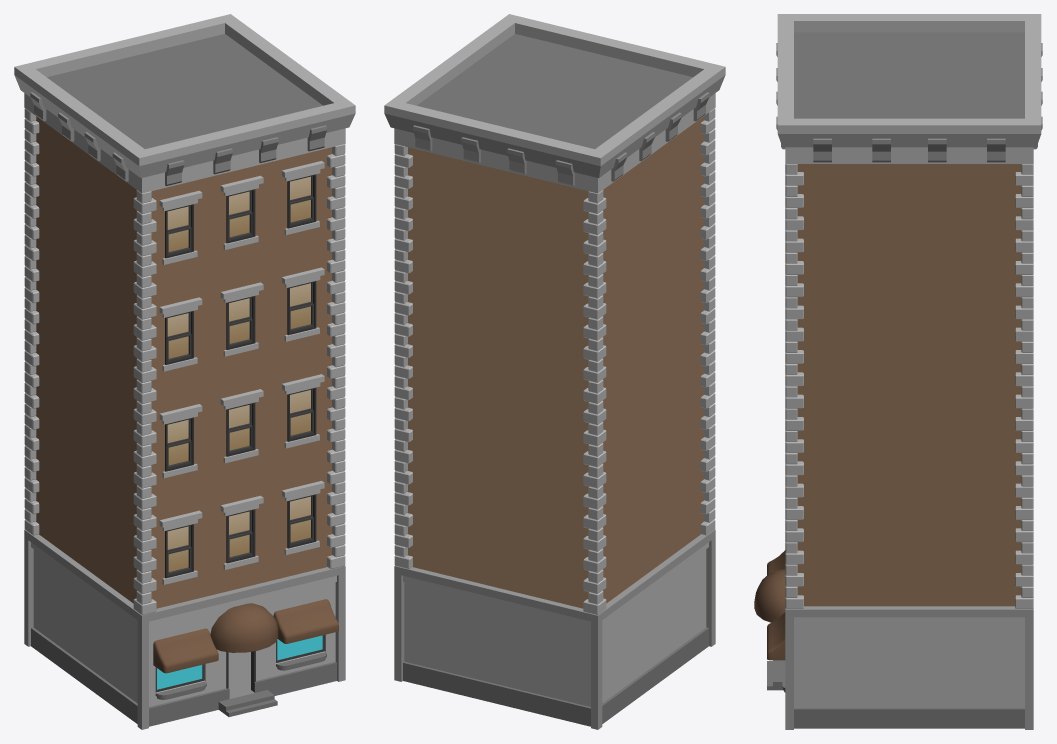
File: SM_Buildings_House_10_V1.fbx
3 renders of one model, left to right at view 1: azimuth 30°, elevation 25°; view 2: azimuth 150°, elevation 25°; view 3: azimuth 270°, elevation 25°, orthographic. The views are drawn at different scales.
Parts seen in each view (by area): view 1: SM_Buildings_House_10_V1; view 2: SM_Buildings_House_10_V1; view 3: SM_Buildings_House_10_V1.
Part boxes in pixels (<box>): SM_Buildings_House_10_V1: <box>14,14,355,729</box>; SM_Buildings_House_10_V1: <box>384,14,725,729</box>; SM_Buildings_House_10_V1: <box>754,14,1042,729</box>.
Bounding box in the file's own units: 8.57 × 21.6 × 9.28.
